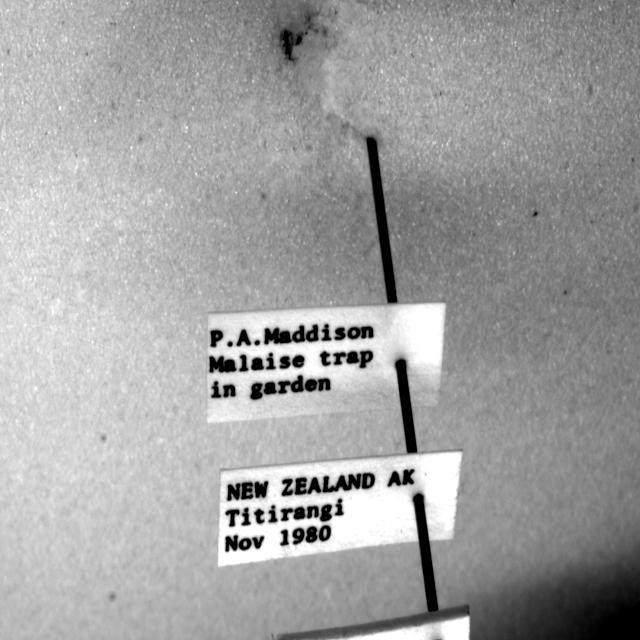typed_label: (208, 304, 445, 422), (219, 452, 462, 566)
